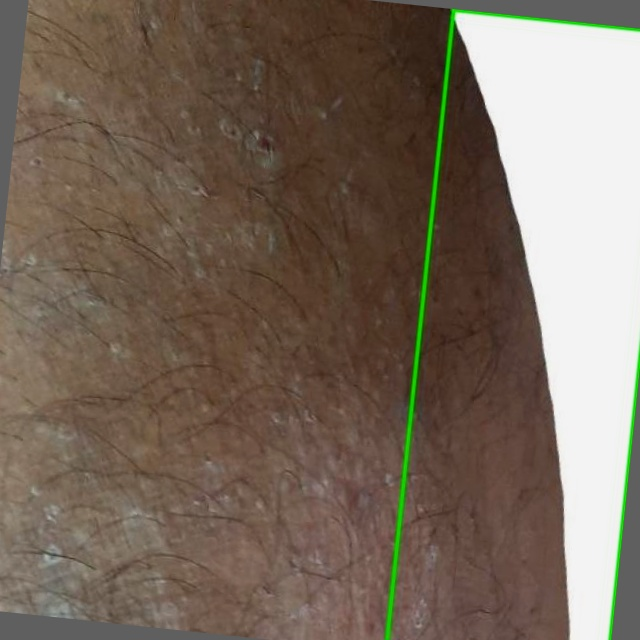Contact Dermatitis: (387, 9, 639, 639)
